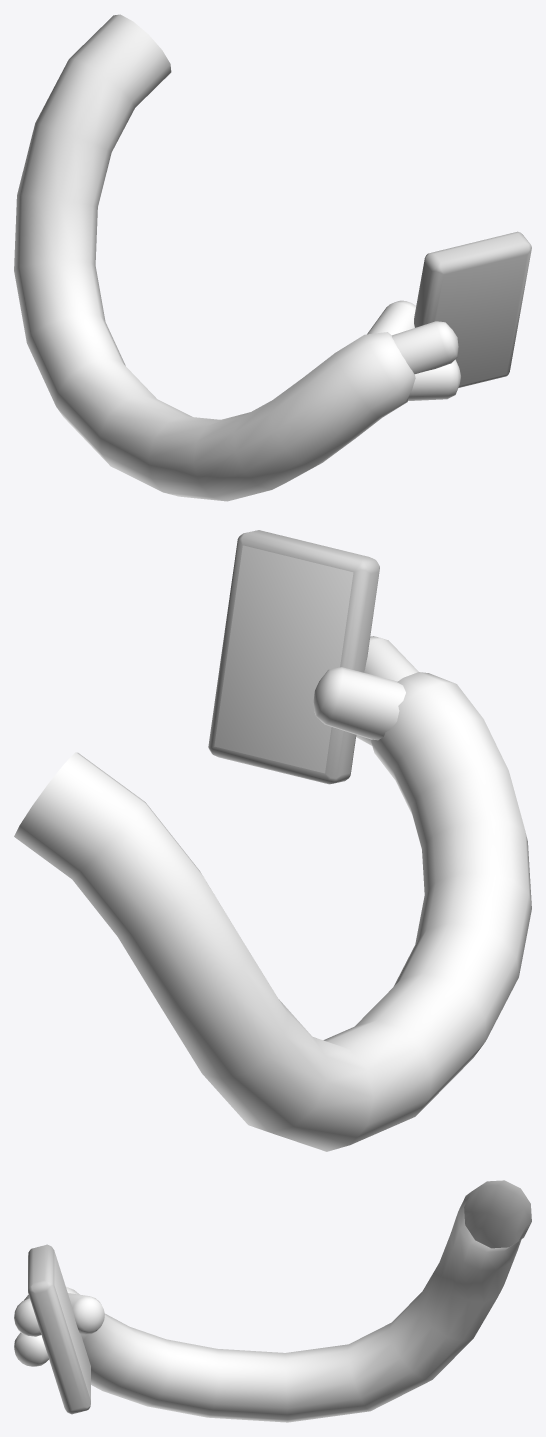
The model's file is KM_Phone.FBX.
3 renders of one model, top to bottom at view 1: azimuth 30°, elevation 25°; view 2: azimuth 150°, elevation 25°; view 3: azimuth 270°, elevation 25°, orthographic. The views are drawn at different scales.
Parts seen in each view (by area): view 1: Phone; view 2: Phone; view 3: Phone.
Boxes of the visible parts, left/top/right/bottom form: Phone: left=14, top=14, right=531, bottom=501; Phone: left=14, top=530, right=531, bottom=1151; Phone: left=14, top=1180, right=531, bottom=1422.
Bounding box in the file's own units: 72.54 × 81.19 × 133.
1 material, 1 textured.
